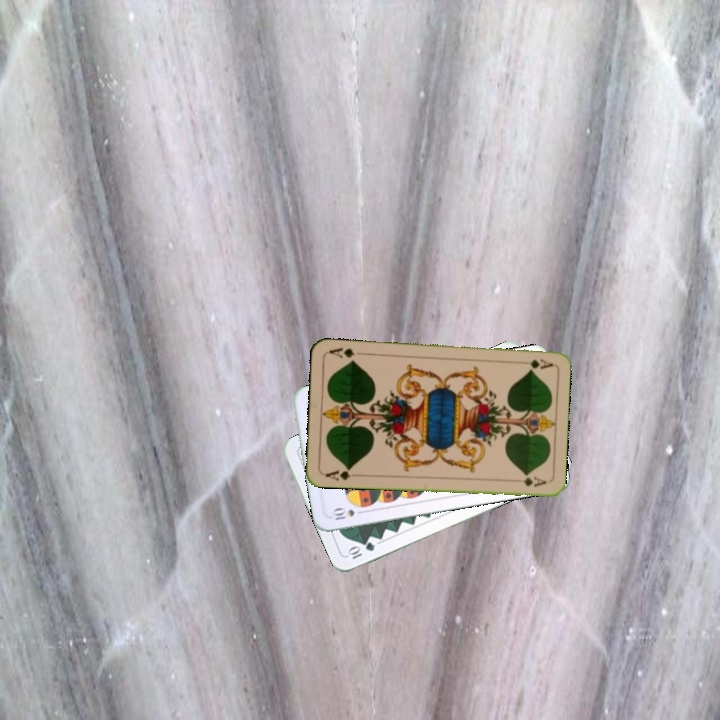G10: (344, 538, 377, 562)
GA: (320, 464, 361, 483), (526, 355, 555, 371)
S10: (328, 505, 368, 522)
